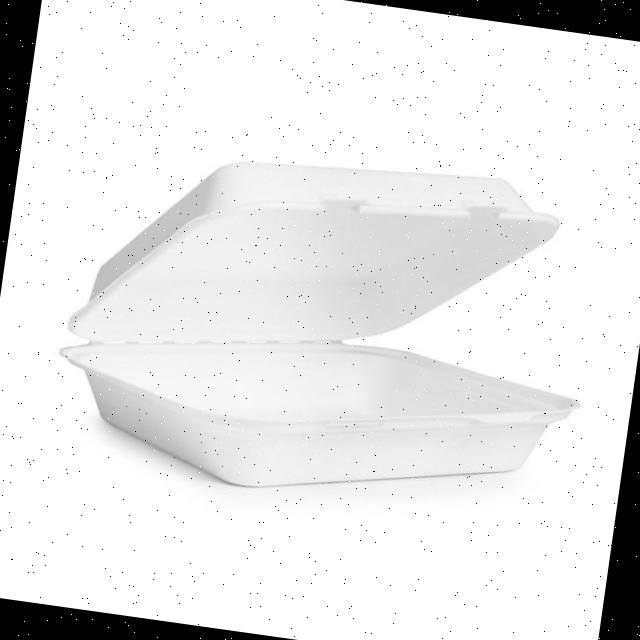styrofoam: (43, 117, 611, 530)
